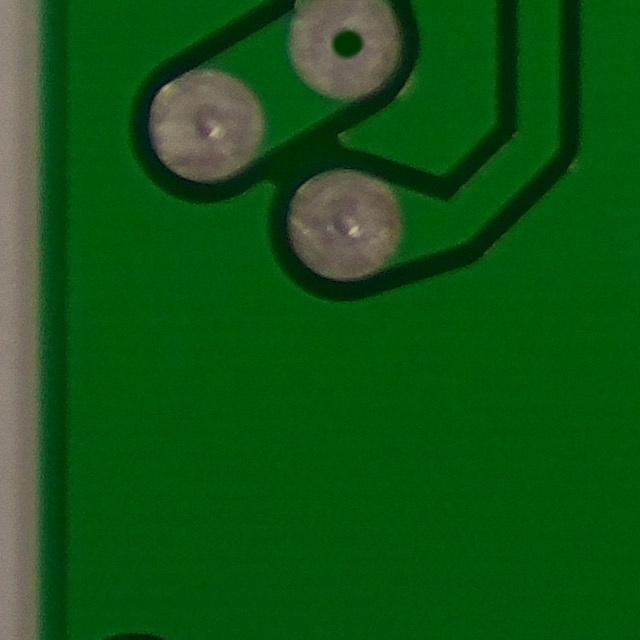missing_hole: (284, 0, 403, 104)
